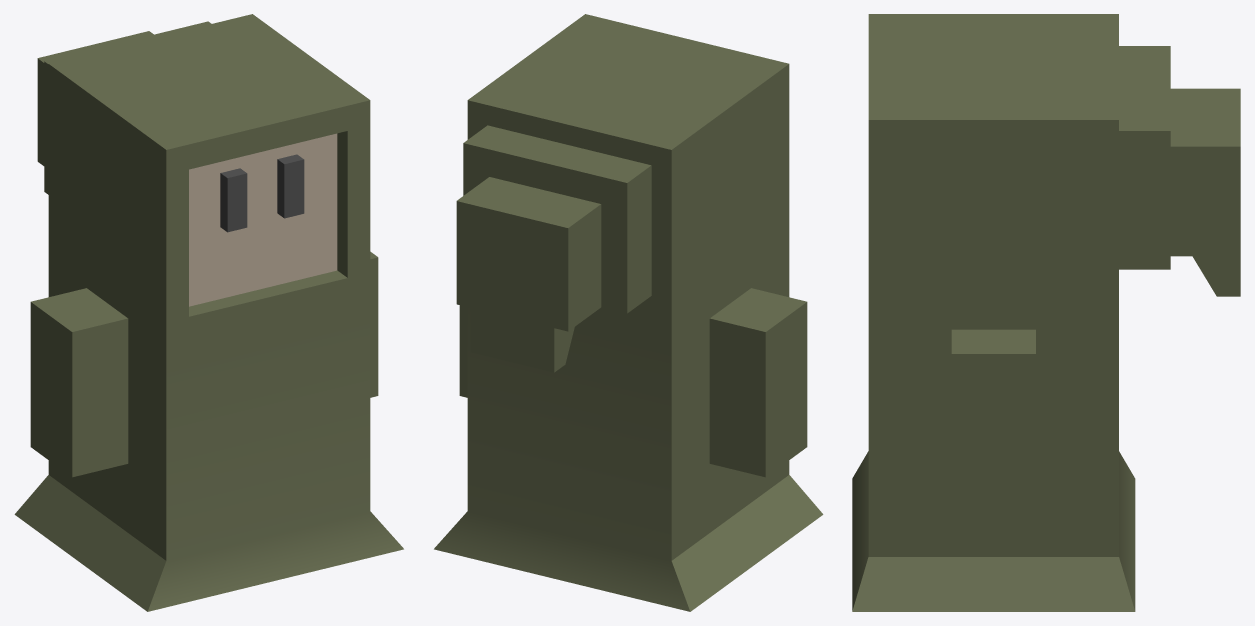
The model's file is Character_Cloak.fbx.
The picture shows the model from 3 angles, left to right: view 1: azimuth 30°, elevation 25°; view 2: azimuth 150°, elevation 25°; view 3: azimuth 270°, elevation 25°; orthographic projection. The views are drawn at different scales.
Parts seen in each view (by area): view 1: Standard_Wall5, Standard_Wall6, Standard_Wall7, Standard_Wall8; view 2: Standard_Wall5; view 3: Standard_Wall5.
Part boxes in pixels (box(x1,y1,x2,y2)): Standard_Wall5: box(14, 14, 403, 611); Standard_Wall6: box(189, 133, 337, 306); Standard_Wall7: box(220, 168, 247, 232); Standard_Wall8: box(277, 154, 304, 218); Standard_Wall5: box(434, 14, 823, 611); Standard_Wall5: box(852, 14, 1240, 611).
Size of the model in its own units: 3.01 by 4.21 by 3.1.
